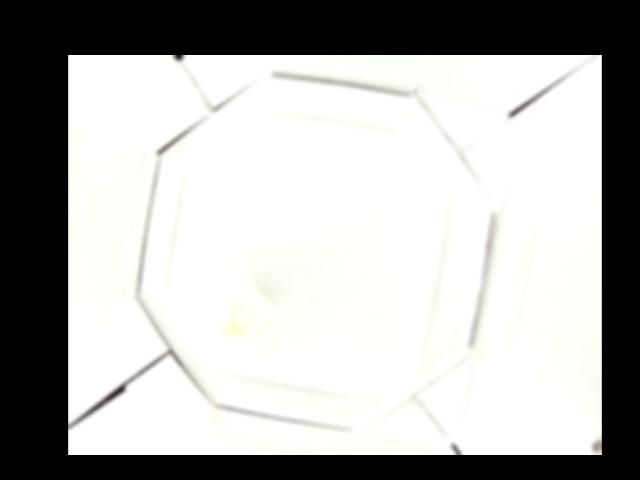Mooli: (221, 279, 275, 337)
